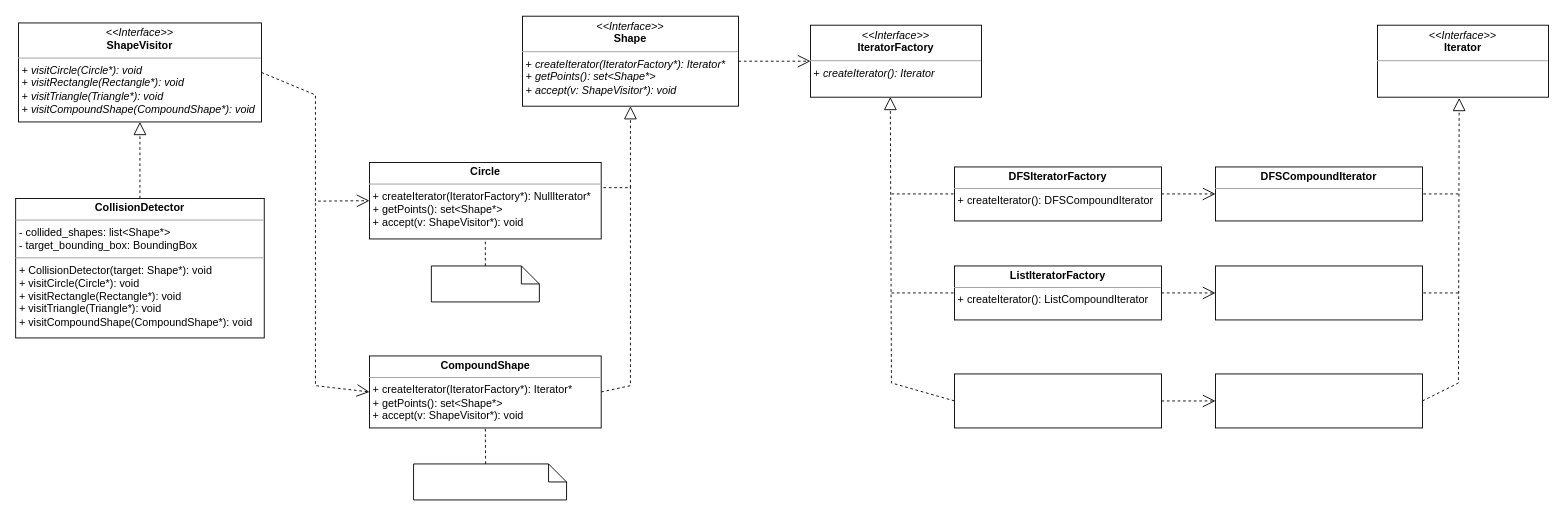
Image size: 1565x516. Some labels were removed from this diagram. The centre of each missing label's shape, as x and y in pixels:
BFSCompoundIterator: the point at 1318,400
BFSIteratorFactory + createIterator(): BFSCompoundIterator: the point at 1057,400
ListCompoundIterator: the point at 1318,292
v->visitCircle(this): the point at 484,283
v->visitCompoundShape(this): the point at 490,481
